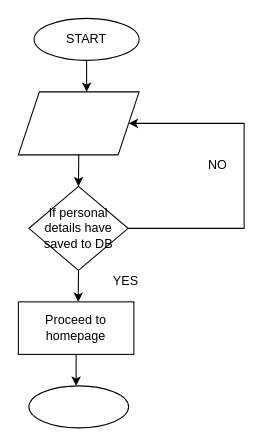
Image size: 271x446. Some labels were removed from this diagram. Each missing label, with the centre of its shape:
Input personal details: the point at 78,123
STOP: the point at 78,406
